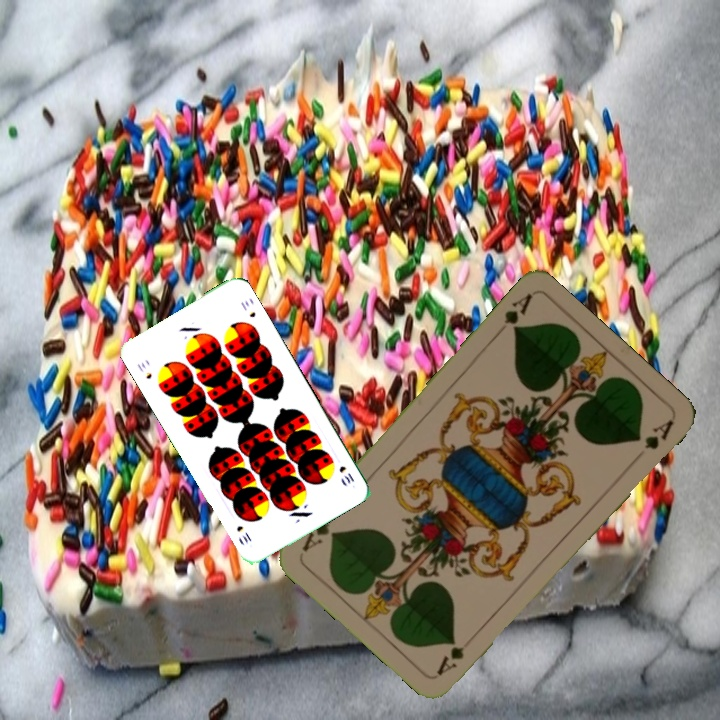GA: (491, 290, 535, 340), (433, 642, 467, 678)
S10: (335, 462, 357, 486), (133, 358, 155, 382)
